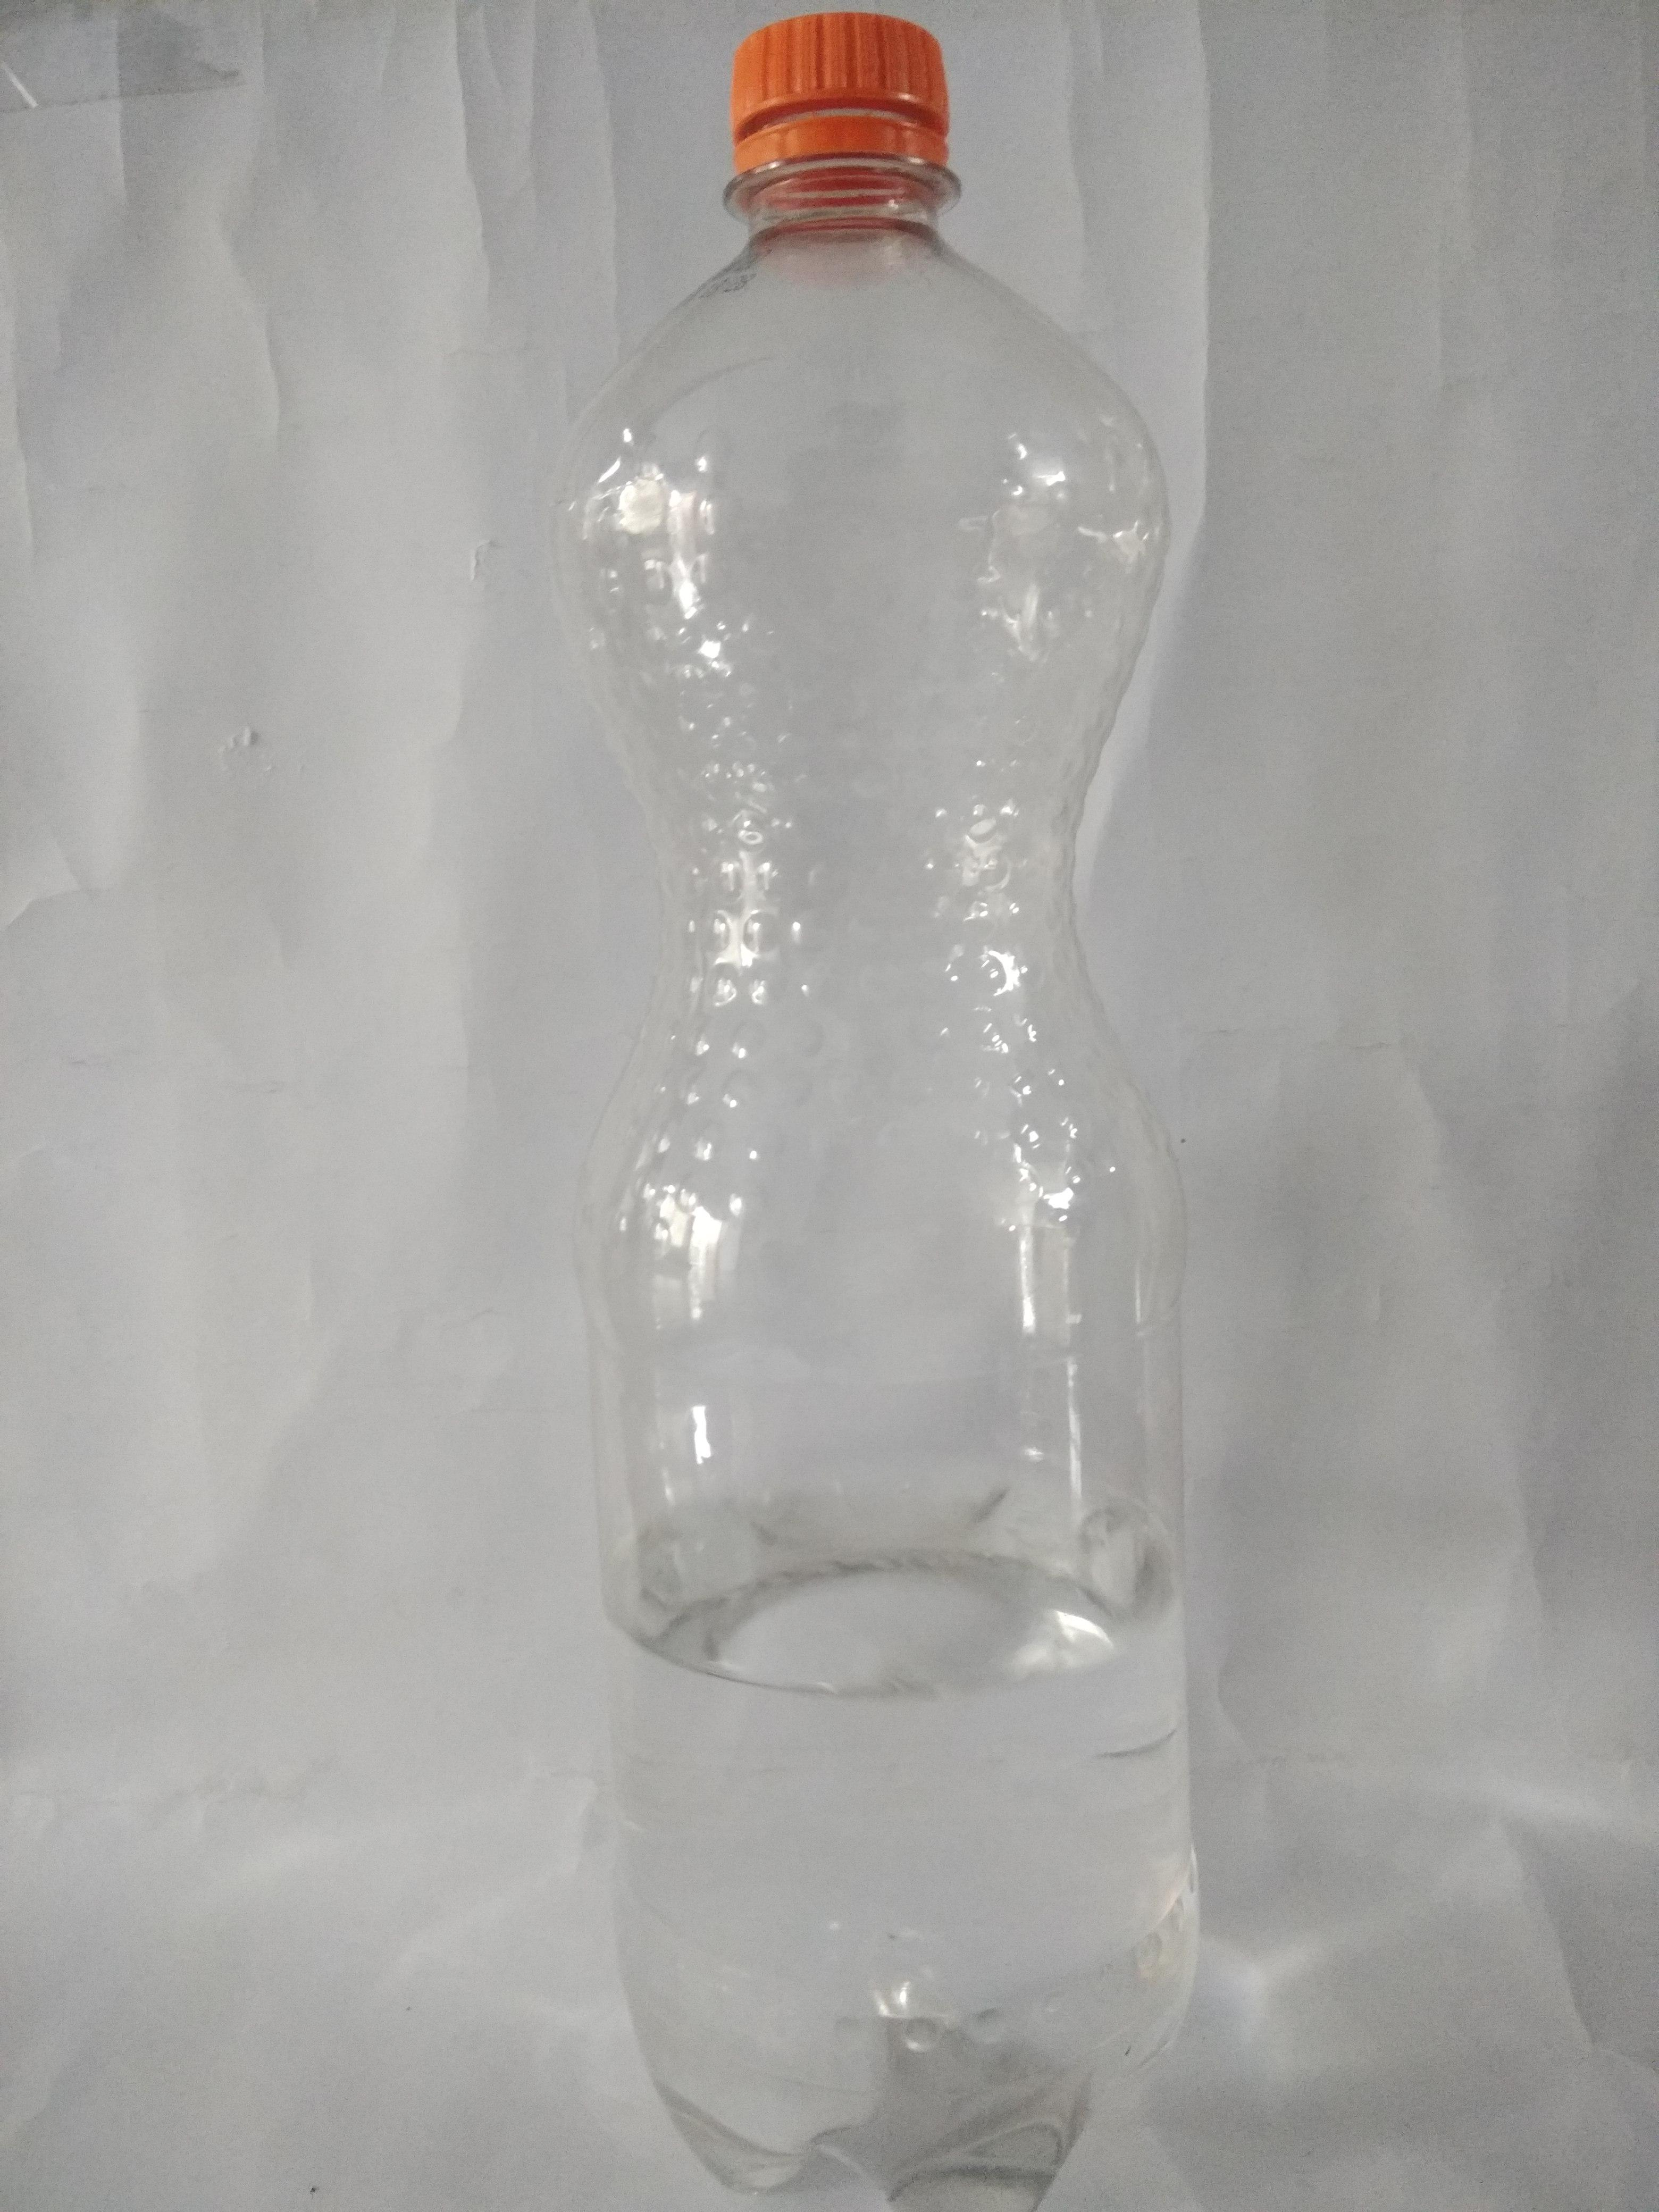HDPE: (624, 0, 1011, 211)
PETE: (385, 239, 1405, 2212)
